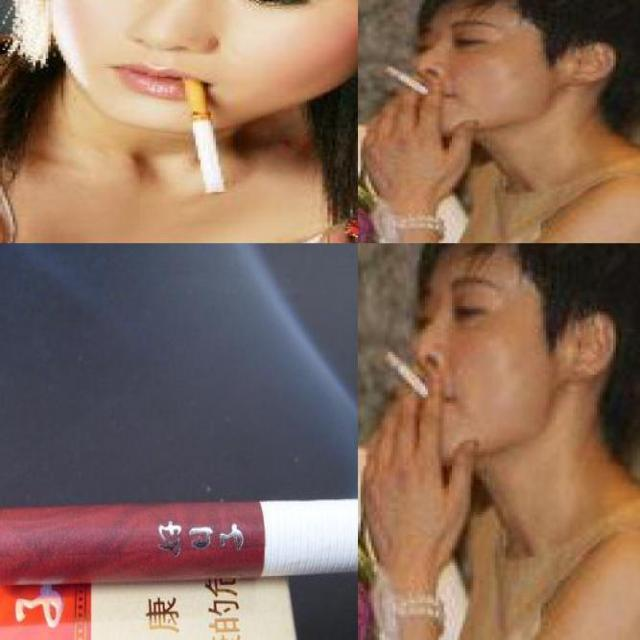cigarette: (0, 498, 357, 586), (182, 75, 228, 196), (371, 334, 433, 403), (371, 56, 433, 98)
